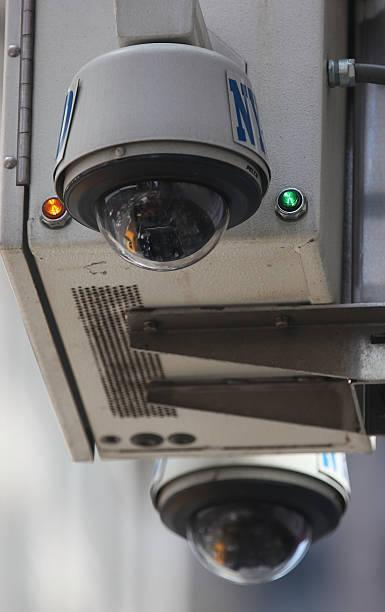camera: (38, 40, 288, 290), (143, 438, 358, 600)
